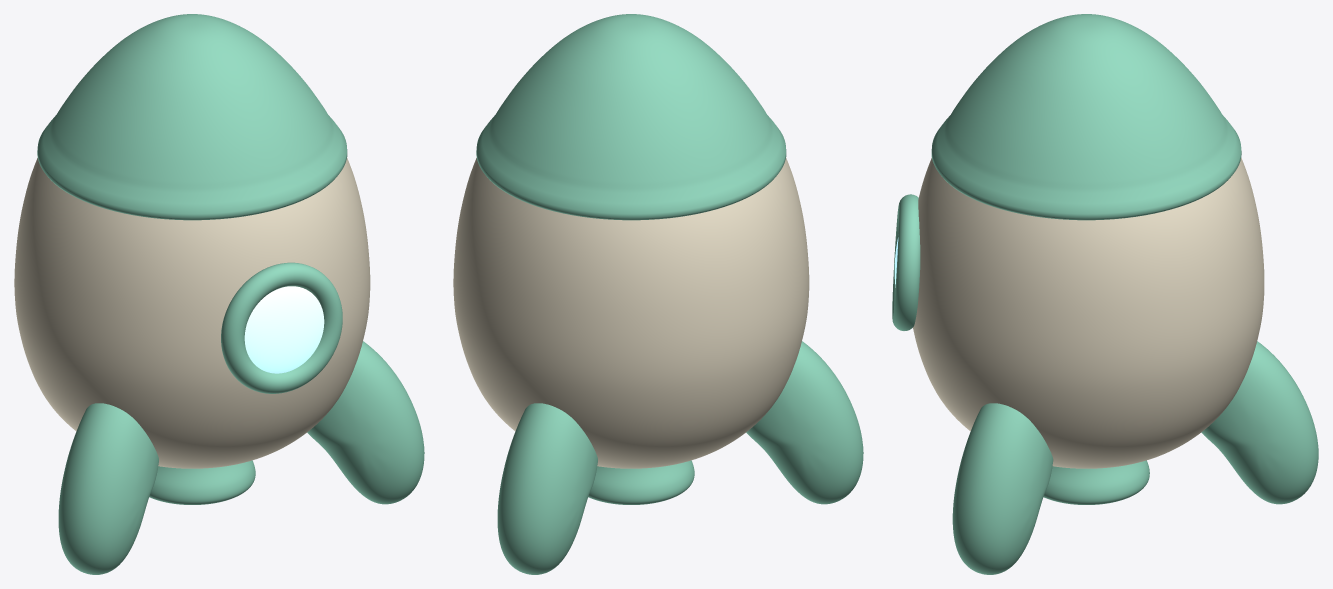
The model's file is rocket_before.fbx.
3 renders of one model, left to right at view 1: azimuth 30°, elevation 25°; view 2: azimuth 150°, elevation 25°; view 3: azimuth 270°, elevation 25°, orthographic.
Visible parts, largest first — view 1: Body, NoseCap, Fins, WindowRim, WindowGlass, Nozzle; view 2: Body, NoseCap, Fins, Nozzle; view 3: Body, NoseCap, Fins, Nozzle, WindowRim.
Part boxes in pixels (box(x1,y1,x2,y2)): Body: box(14, 158, 370, 468); NoseCap: box(37, 14, 347, 220); Fins: box(58, 341, 424, 574); WindowRim: box(221, 262, 342, 393); WindowGlass: box(244, 286, 324, 373); Nozzle: box(149, 460, 255, 504); Body: box(453, 158, 809, 468); NoseCap: box(476, 14, 786, 220); Fins: box(497, 341, 863, 574); Nozzle: box(588, 460, 694, 504); Body: box(913, 158, 1264, 468); NoseCap: box(931, 14, 1241, 220); Fins: box(952, 341, 1318, 574); Nozzle: box(1043, 460, 1149, 504); WindowRim: box(892, 194, 920, 330).
Size of the model in its own units: 2.25 by 2.89 by 2.33.
